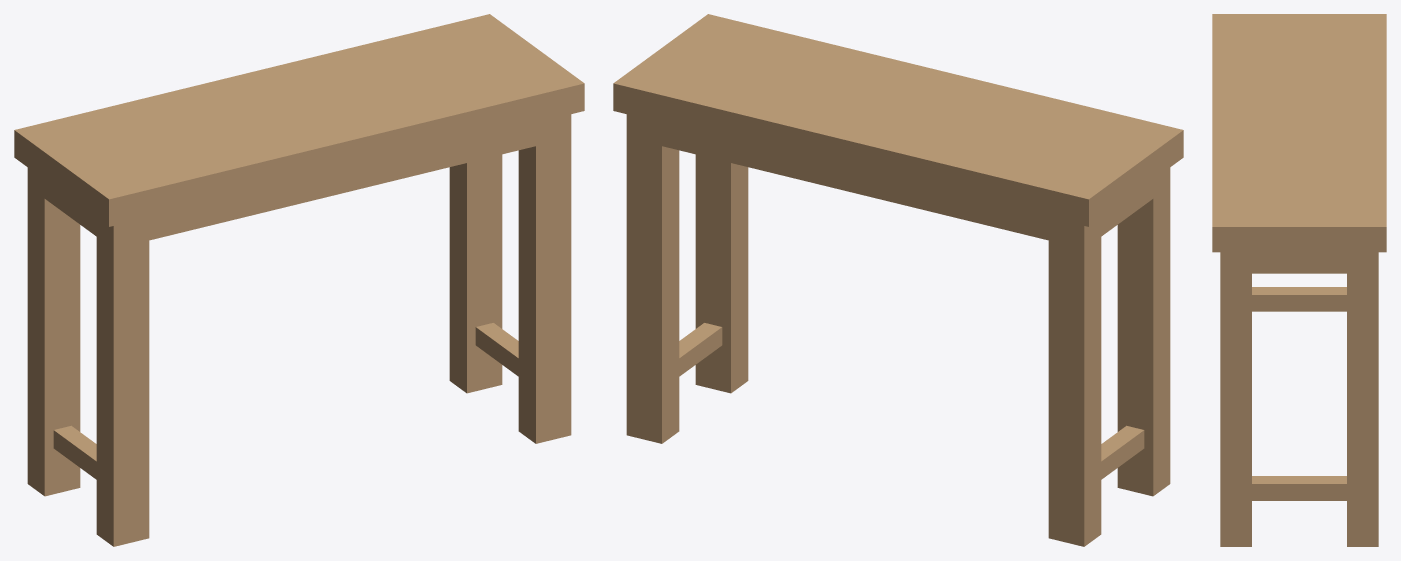
Rendered from table-console.glb.
3 views of the same model, side by side, from view 1: azimuth 30°, elevation 25°; view 2: azimuth 150°, elevation 25°; view 3: azimuth 270°, elevation 25° (orthographic). The views are drawn at different scales.
Visible parts, largest first — view 1: table-console; view 2: table-console; view 3: table-console.
Boxes of the visible parts, left/top/right/bottom form: table-console: left=14, top=14, right=584, bottom=546; table-console: left=613, top=14, right=1183, bottom=546; table-console: left=1212, top=14, right=1386, bottom=546.
Size of the model in its own units: 1.1 by 0.78 by 0.38.
